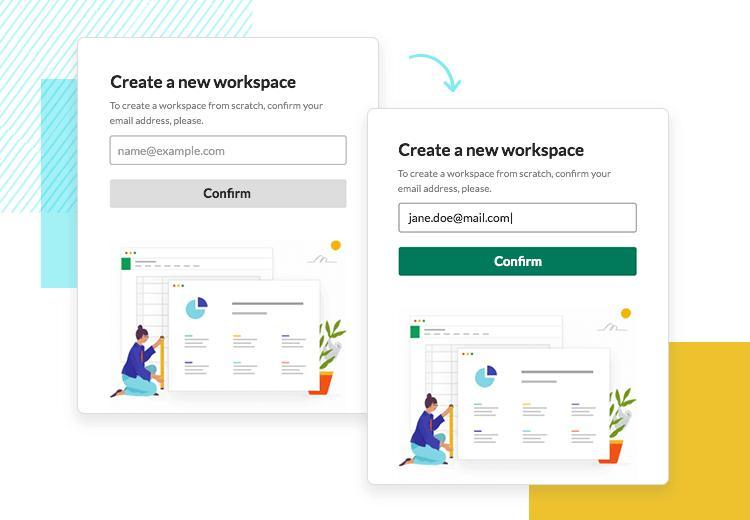button: (399, 248, 638, 277), (111, 181, 347, 209)
input: (399, 203, 638, 233), (111, 137, 347, 166)
